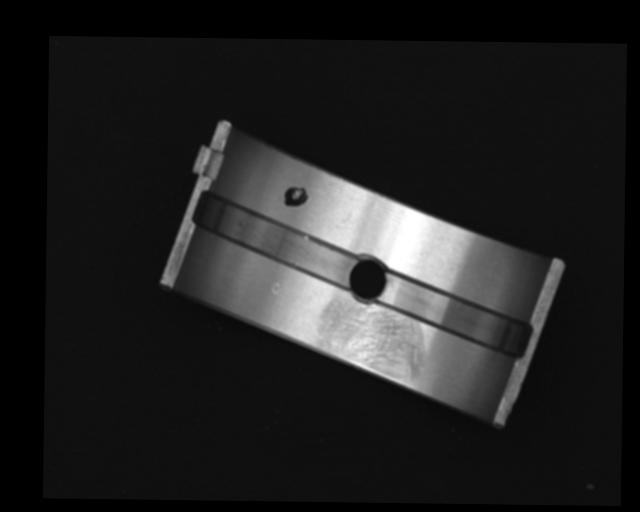blot: (282, 183, 309, 208)
bruise: (271, 280, 280, 295)
gap: (196, 196, 358, 289), (378, 275, 531, 356)
hole: (347, 254, 389, 303)
scratch: (319, 297, 427, 382)
